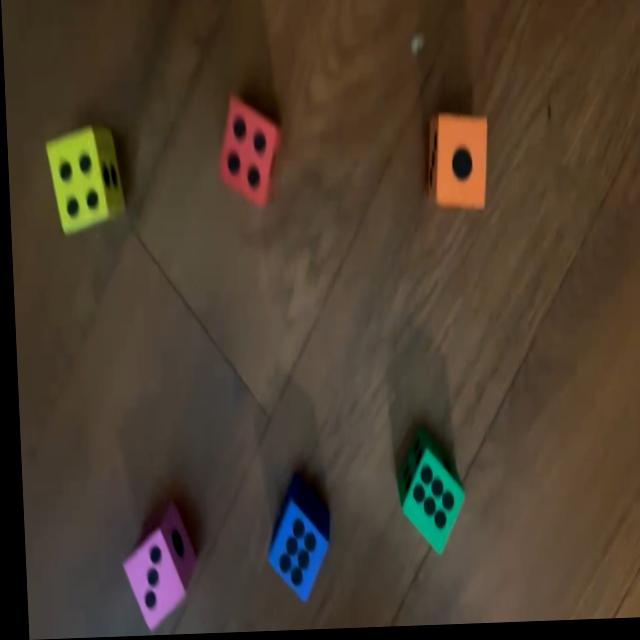cube: (392, 434, 462, 560), (262, 480, 326, 605), (214, 96, 283, 210)
